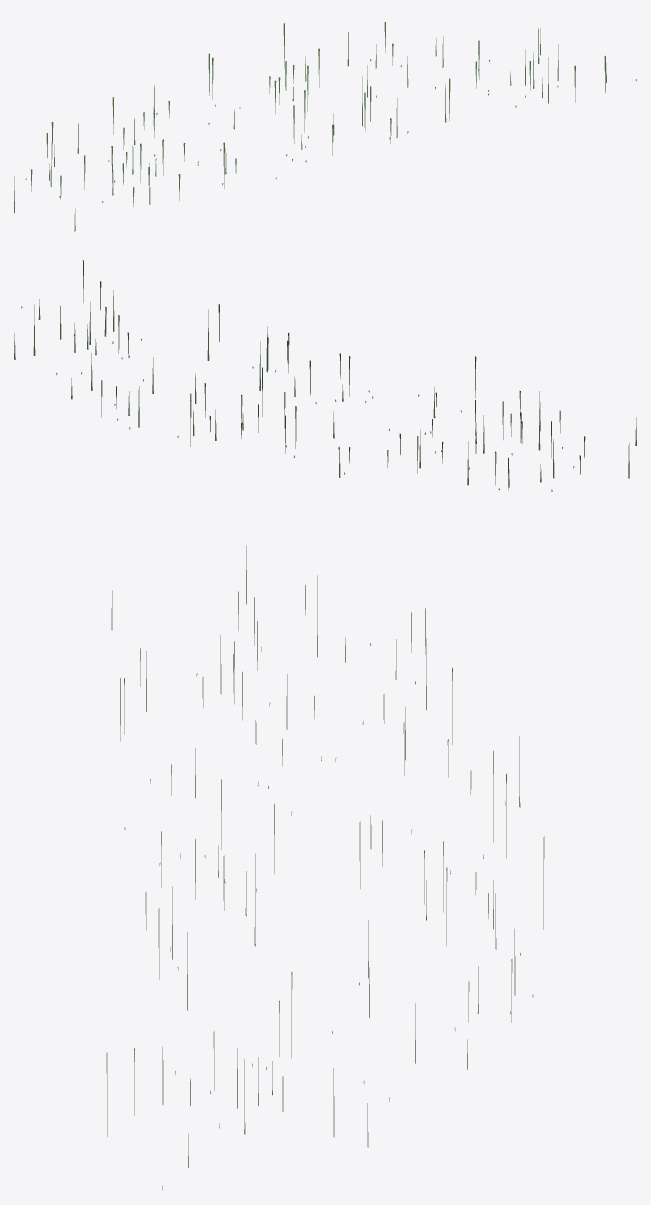
File: xiyuan-vegetation-00-far.glb
The picture shows the model from 3 angles, top to bottom: view 1: azimuth 30°, elevation 25°; view 2: azimuth 150°, elevation 25°; view 3: azimuth 270°, elevation 25°; orthographic projection. The views are drawn at different scales.
Visible parts, largest first — view 1: lotus stems; view 2: lotus stems; view 3: lotus stems.
Part boxes in pixels (<box>): lotus stems: <box>14,22,636,231</box>; lotus stems: <box>14,260,636,491</box>; lotus stems: <box>106,545,544,1190</box>.
Bounding box in the file's own units: 12.34 × 1.02 × 3.88.
